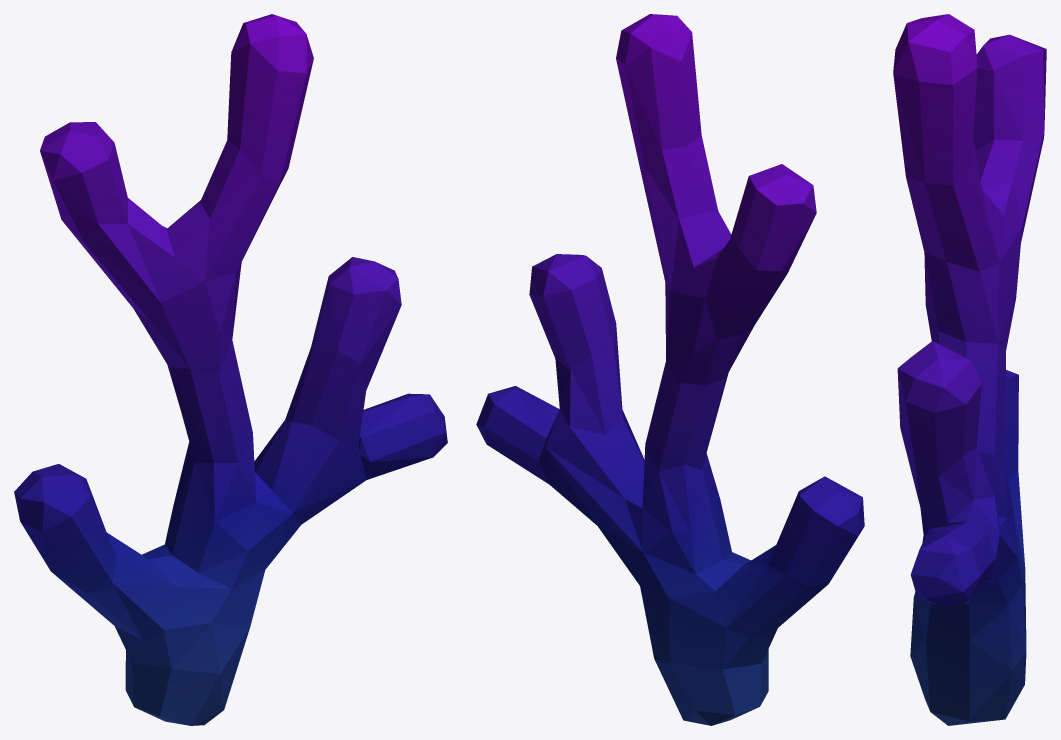
The model's file is purple_coral_1.fbx.
3 views of the same model, side by side, from view 1: azimuth 30°, elevation 25°; view 2: azimuth 150°, elevation 25°; view 3: azimuth 270°, elevation 25° (orthographic). The views are drawn at different scales.
Visible parts, largest first — view 1: purple_coral_1; view 2: purple_coral_1; view 3: purple_coral_1.
Part boxes in pixels (x1,y1,x2,y2): purple_coral_1: [14, 14, 447, 725]; purple_coral_1: [476, 14, 864, 725]; purple_coral_1: [893, 14, 1046, 725].
Size of the model in its own units: 0.5247 by 0.8642 by 0.1625.
